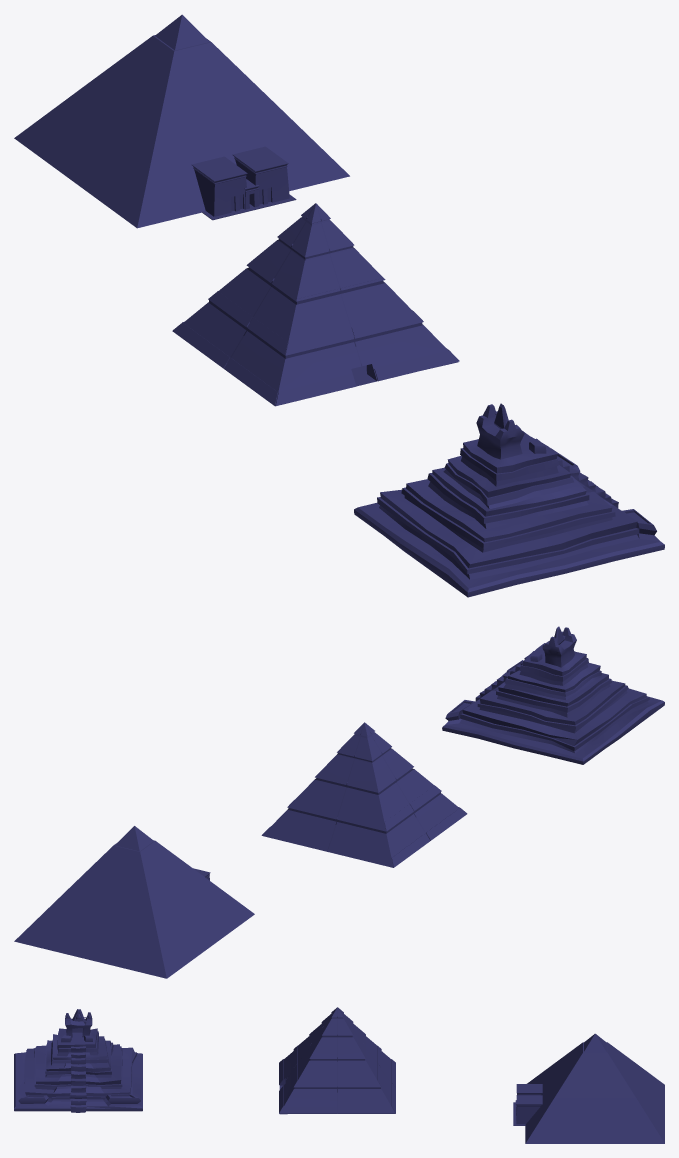
File: pyramids.fbx
3 views of the same model, one above another, from view 1: azimuth 30°, elevation 25°; view 2: azimuth 150°, elevation 25°; view 3: azimuth 270°, elevation 25° (orthographic). The views are drawn at different scales.
Visible parts, largest first — view 1: men_dimo_Material #21_0, Pyramide.001_Pyramide.001_0, Pyramid001_01 - Default_0; view 2: men_dimo_Material #21_0, Pyramide.001_Pyramide.001_0, Pyramid001_01 - Default_0; view 3: men_dimo_Material #21_0, Pyramide.001_Pyramide.001_0, Pyramid001_01 - Default_0.
Boxes of the visible parts, left/top/right/bottom form: men_dimo_Material #21_0: left=14, top=14, right=349, bottom=228; Pyramide.001_Pyramide.001_0: left=354, top=403, right=664, bottom=597; Pyramid001_01 - Default_0: left=172, top=203, right=459, bottom=406; men_dimo_Material #21_0: left=14, top=826, right=254, bottom=978; Pyramide.001_Pyramide.001_0: left=442, top=626, right=664, bottom=764; Pyramid001_01 - Default_0: left=261, top=722, right=467, bottom=867; men_dimo_Material #21_0: left=513, top=1033, right=664, bottom=1143; Pyramide.001_Pyramide.001_0: left=14, top=1009, right=142, bottom=1112; Pyramid001_01 - Default_0: left=279, top=1007, right=395, bottom=1114.
Bounding box in the file's own units: 6804 × 2983 × 20186.
1 material, 1 textured.
